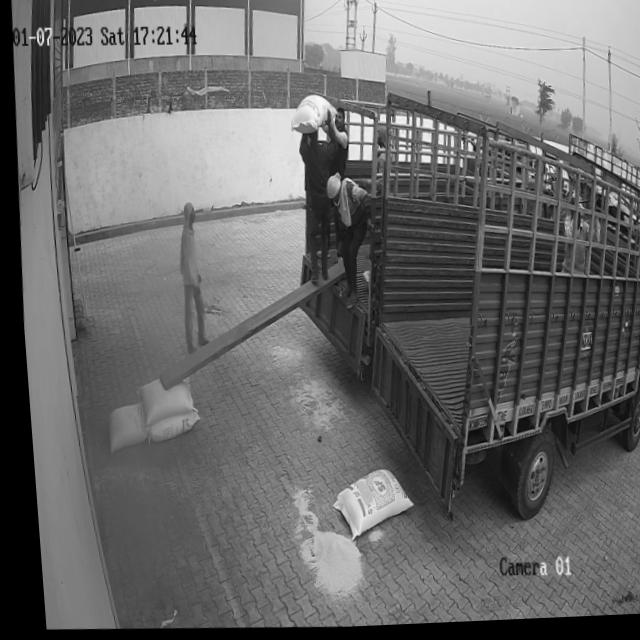sack: (321, 468, 407, 544), (130, 375, 189, 428), (98, 402, 142, 453), (287, 94, 337, 137), (141, 410, 194, 446)
